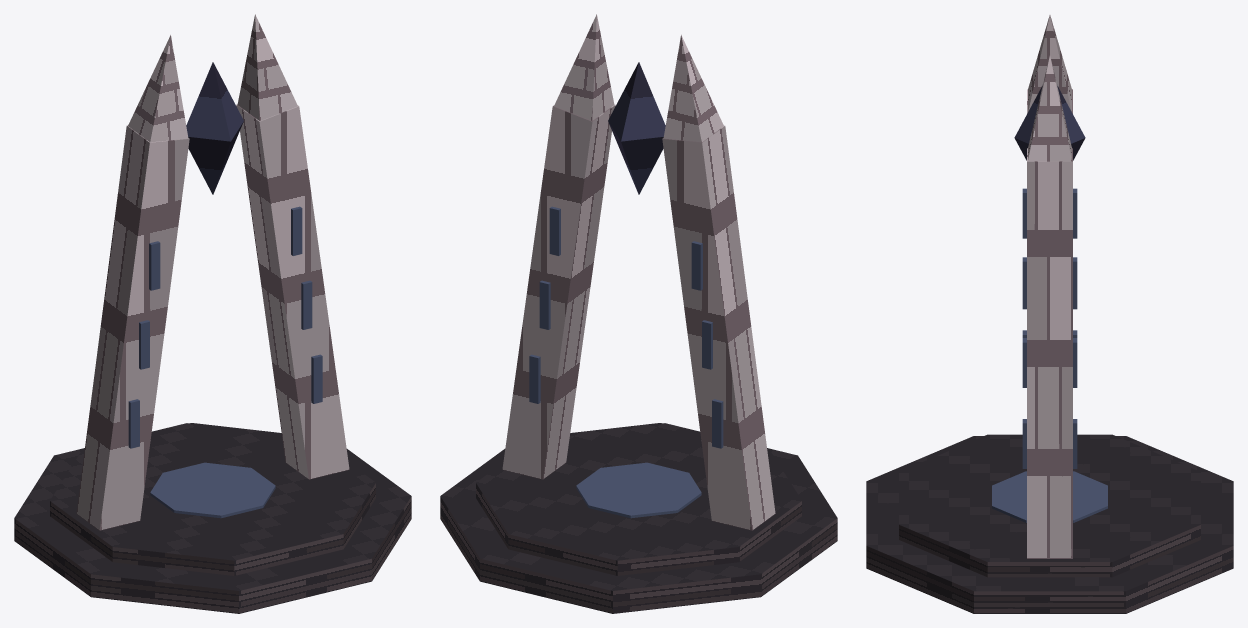
File: teleporter_locked.glb
3 views of the same model, side by side, from view 1: azimuth 30°, elevation 25°; view 2: azimuth 150°, elevation 25°; view 3: azimuth 270°, elevation 25° (orthographic).
Parts seen in each view (by area): view 1: body, crystal; view 2: body, crystal; view 3: body, crystal.
Boxes of the visible parts, bbox=[...] form: body: bbox=[14, 14, 411, 613]; crystal: bbox=[186, 62, 243, 194]; body: bbox=[440, 14, 837, 613]; crystal: bbox=[608, 62, 665, 194]; body: bbox=[866, 15, 1233, 613]; crystal: bbox=[1014, 85, 1085, 160].
Size of the model in its own units: 1.76 by 2.65 by 1.76.
Materials: 1 (1 with a texture image).
